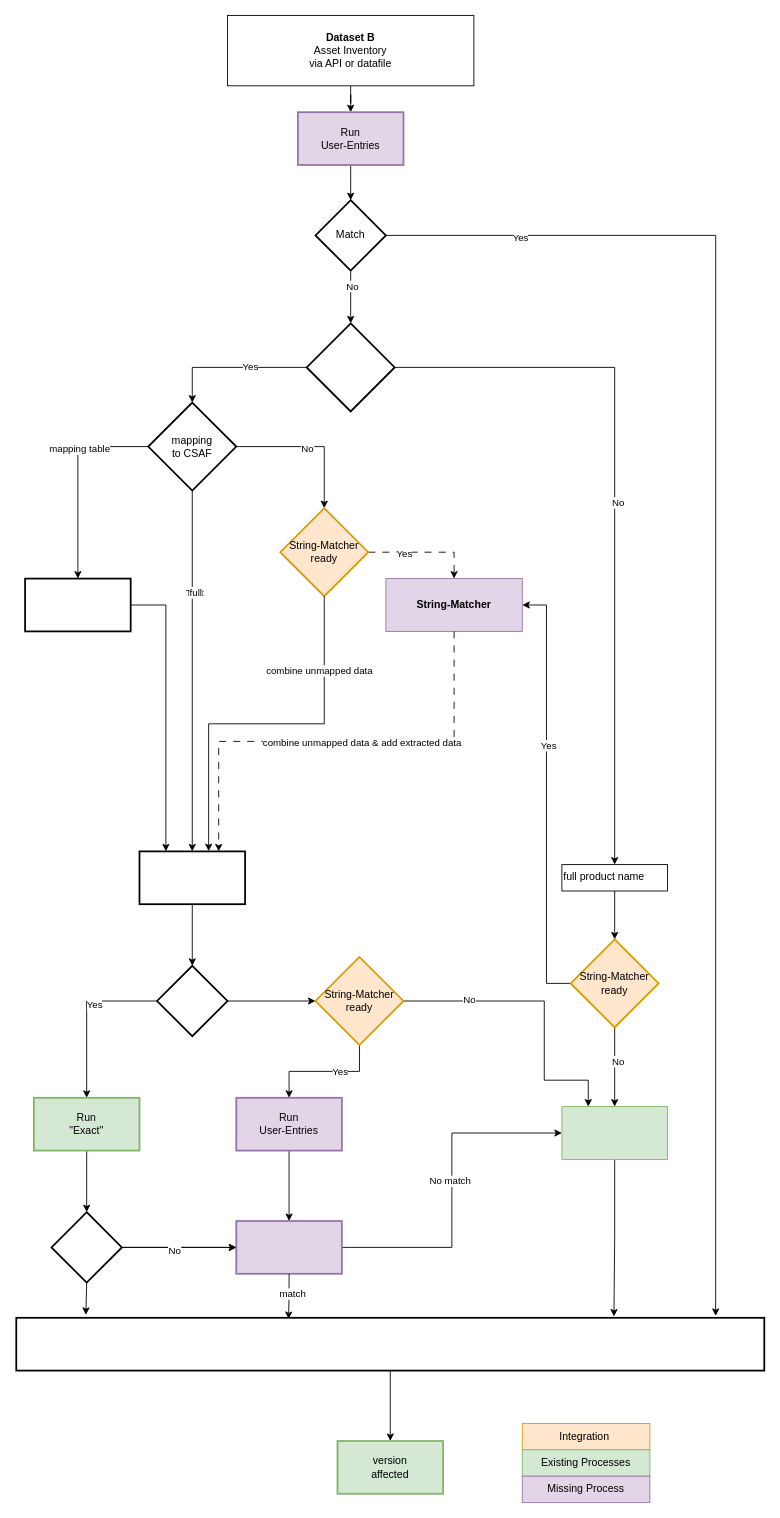
Image size: 780x1518. Some labels were removed from this diagram. The shapes that lost their labels are listed below. From the top down, each one's centre as x and y in pixels, then its label:
the point at 350,367: labeled
the point at 77,604: Mapping to CSAF attributes
the point at 192,877: catagorized sttrings
the point at 192,1000: PIH provided
the point at 614,1132: Run "free text search"
the point at 86,1247: stop after match
the point at 288,1247: Run "Categorized strings"
the point at 390,1343: Results
